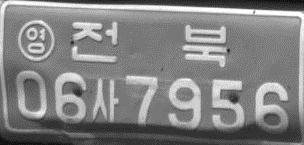0: (14, 69, 47, 119)
5: (210, 78, 245, 135)
6: (254, 81, 289, 135), (53, 71, 86, 126)
7: (123, 73, 158, 129)
9: (167, 77, 202, 131)
사: (91, 78, 119, 124)
영: (16, 18, 55, 62)
전북_D: (68, 21, 229, 67)
